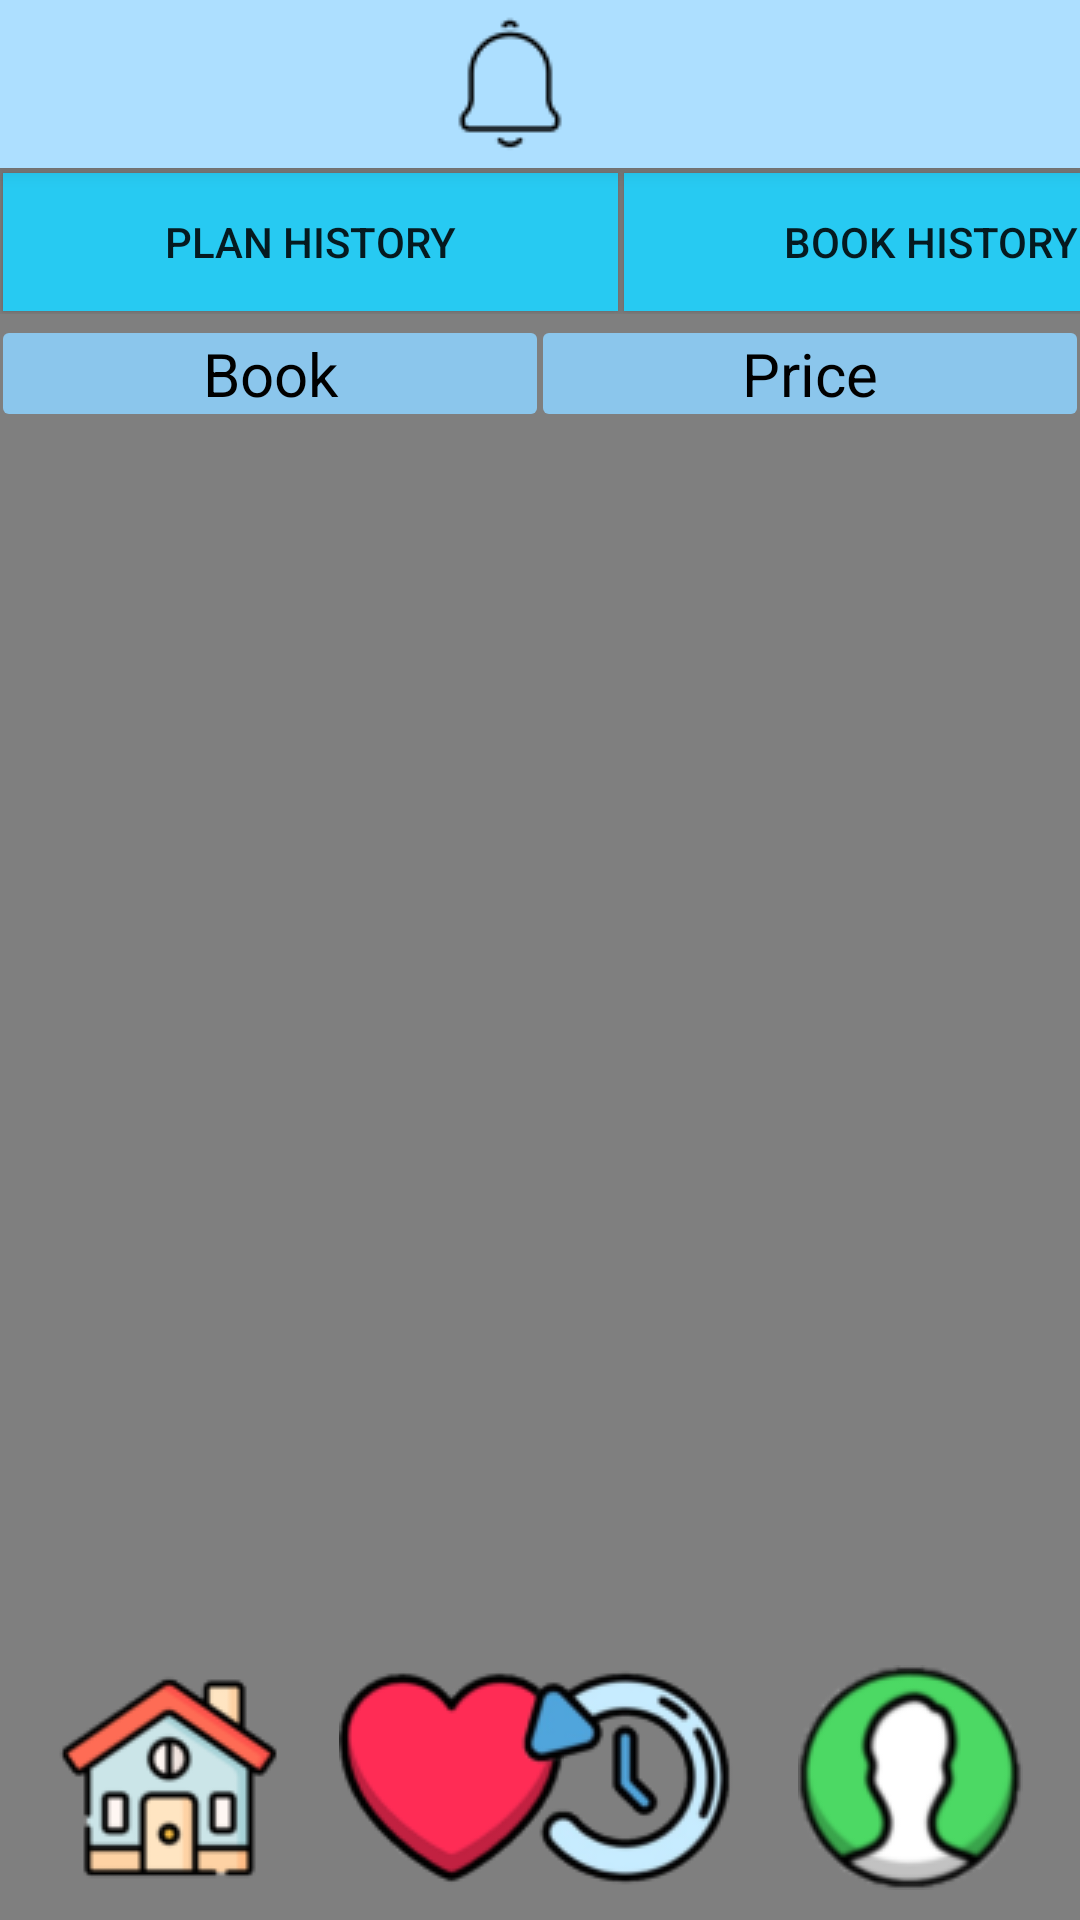

Named icons in this screenshot (1080×1920) and their bounding boxes, detection(x1, y1, x2, y2):
heart: detection(339, 1673, 564, 1882)
history: detection(516, 1673, 730, 1882)
home: detection(62, 1679, 277, 1876)
notification: detection(458, 18, 562, 148)
profile: detection(798, 1667, 1021, 1888)
